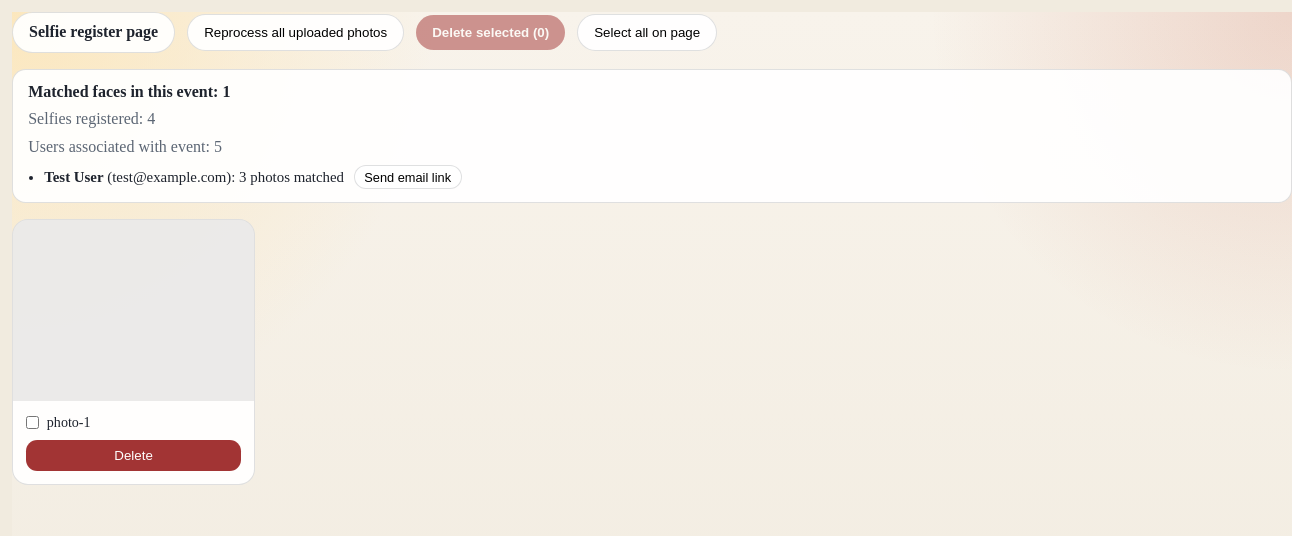
Test case: photos manager › shows failure status and summary counts when reprocess request fails
The image size is (1292, 536).
Click the button "Reprocess all uploaded photos".
click(296, 32)  # box [187,14,404,51]
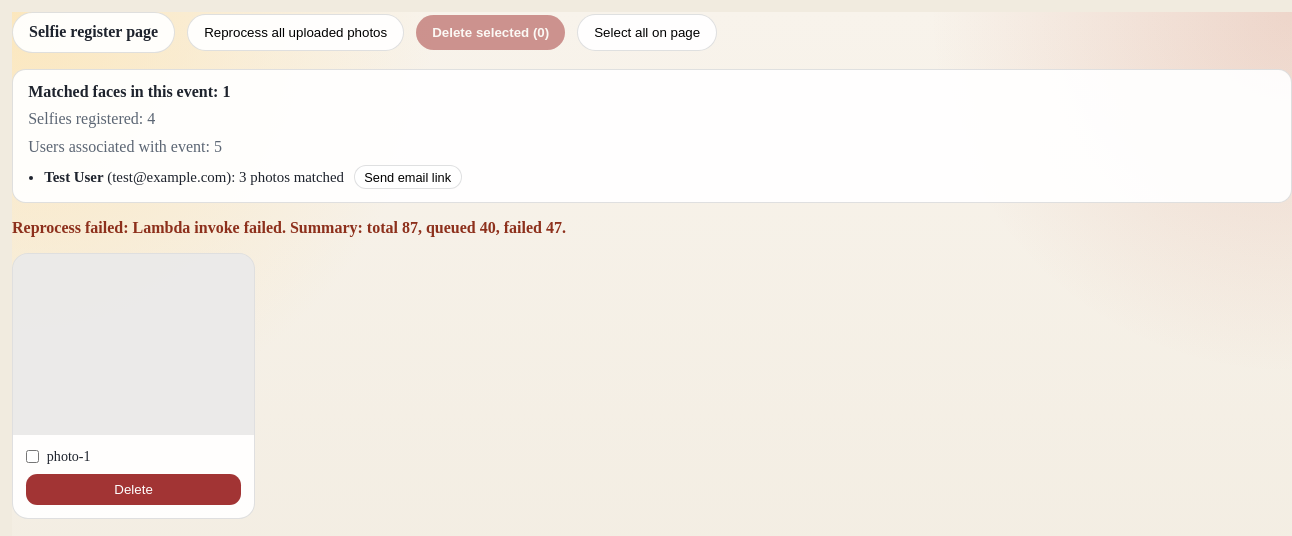
Expected: the text "Reprocess failed: Lambda invoke failed. Summary: total 87, queued 40, failed 47." is shown, [12,219,566,236]
